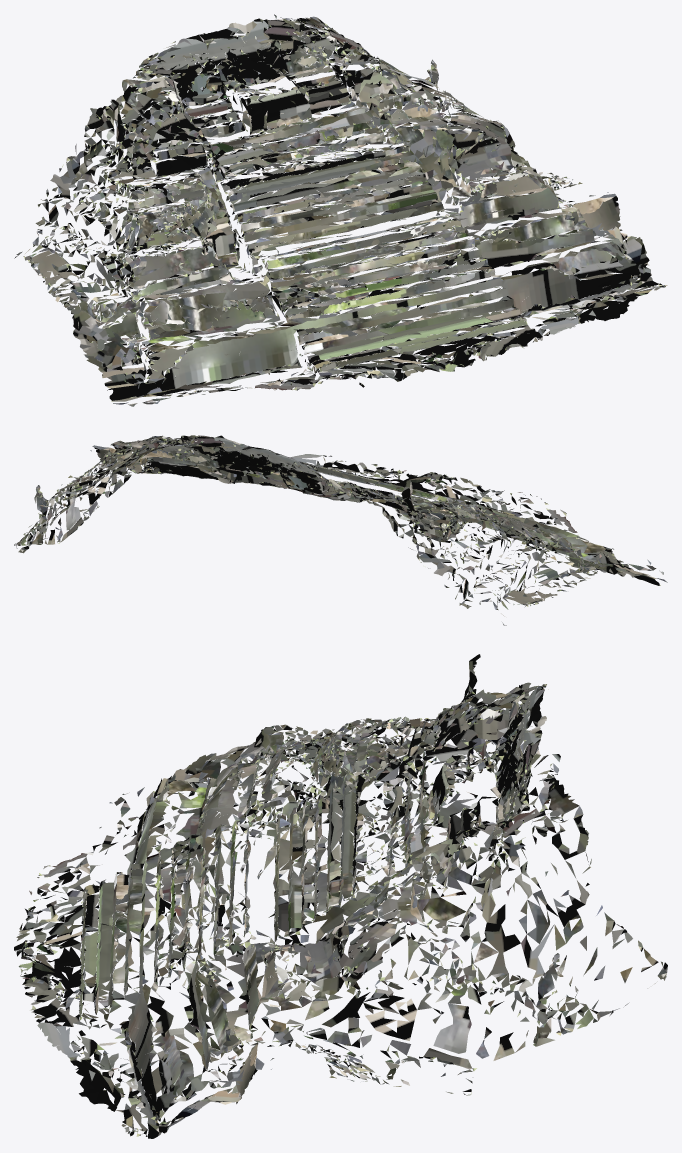
The model's file is north.glb.
The picture shows the model from 3 angles, top to bottom: view 1: azimuth 30°, elevation 25°; view 2: azimuth 150°, elevation 25°; view 3: azimuth 270°, elevation 25°; orthographic projection. The views are drawn at different scales.
Visible parts, largest first — view 1: bake_north; view 2: bake_north; view 3: bake_north.
Boxes of the visible parts, x1,y1,x2,y2 form: bake_north: (14,14,667,406); bake_north: (14,435,667,625); bake_north: (14,654,667,1138).
Size of the model in its own units: 46.78 by 16.92 by 38.61.
1 material, 1 textured.
